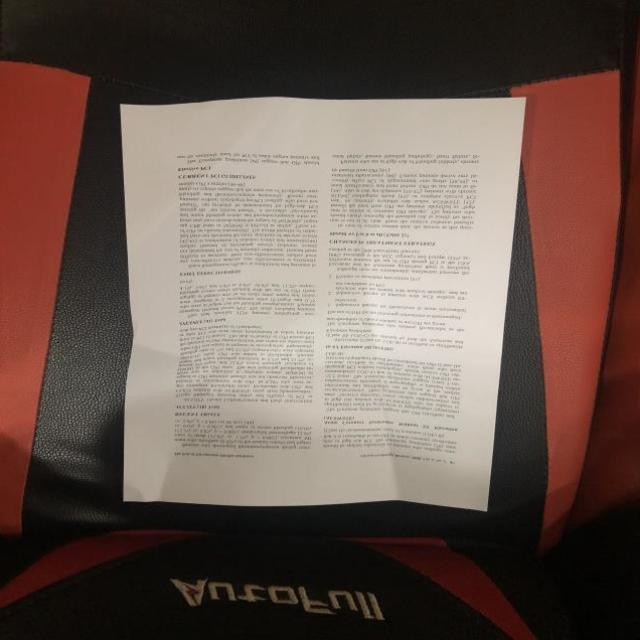kertas: (119, 96, 525, 511)
